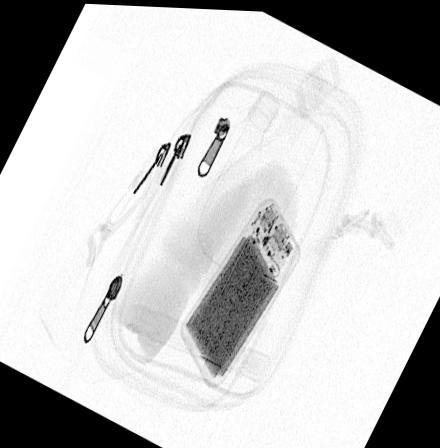Powerbank: (177, 194, 302, 388)
